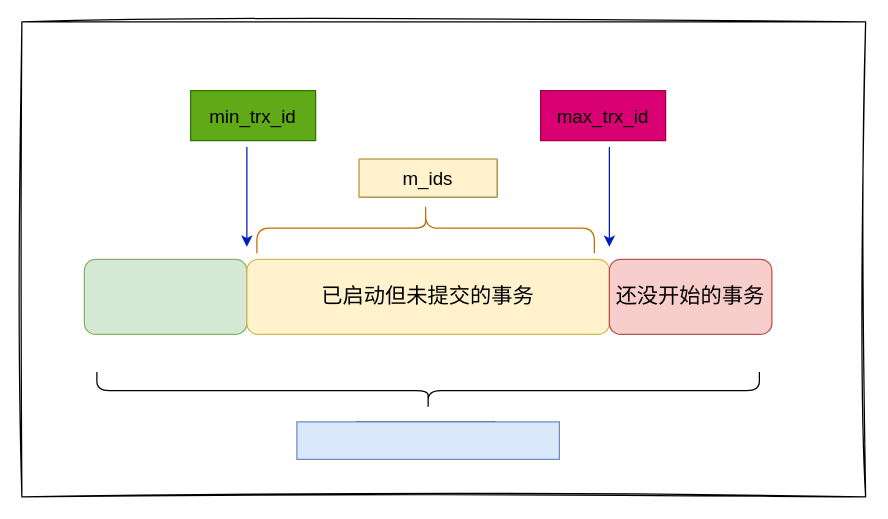
Image size: 888x519. Some labels were removed from this diagram. The centre of each missing label's shape, as x and y in pixels:
已提交事务: (x=165, y=296)
所有记录的trx_id: (x=427, y=440)
